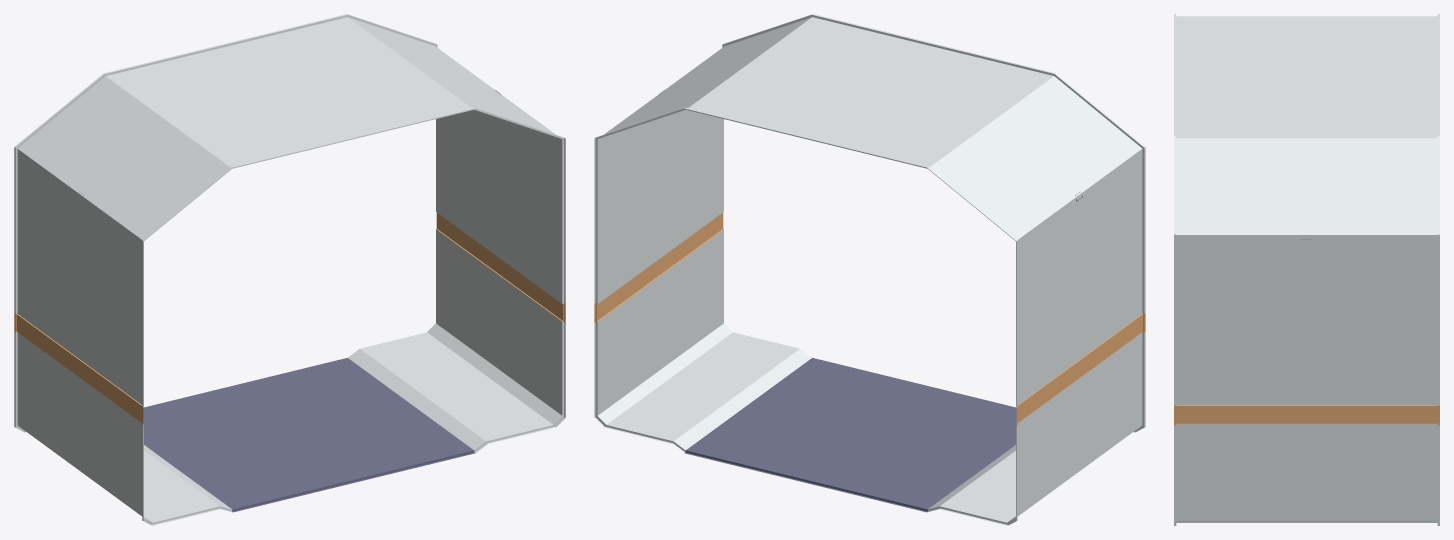
The model's file is Hangar.fbx.
The picture shows the model from 3 angles, left to right: view 1: azimuth 30°, elevation 25°; view 2: azimuth 150°, elevation 25°; view 3: azimuth 270°, elevation 25°; orthographic projection. The views are drawn at different scales.
Parts seen in each view (by area): view 1: HangarHall; view 2: HangarHall; view 3: HangarHall.
Boxes of the visible parts, bbox=[...] form: HangarHall: bbox=[14, 14, 565, 525]; HangarHall: bbox=[594, 14, 1145, 525]; HangarHall: bbox=[1174, 14, 1439, 525].
Size of the model in its own units: 8.61 by 6.72 by 4.56.
